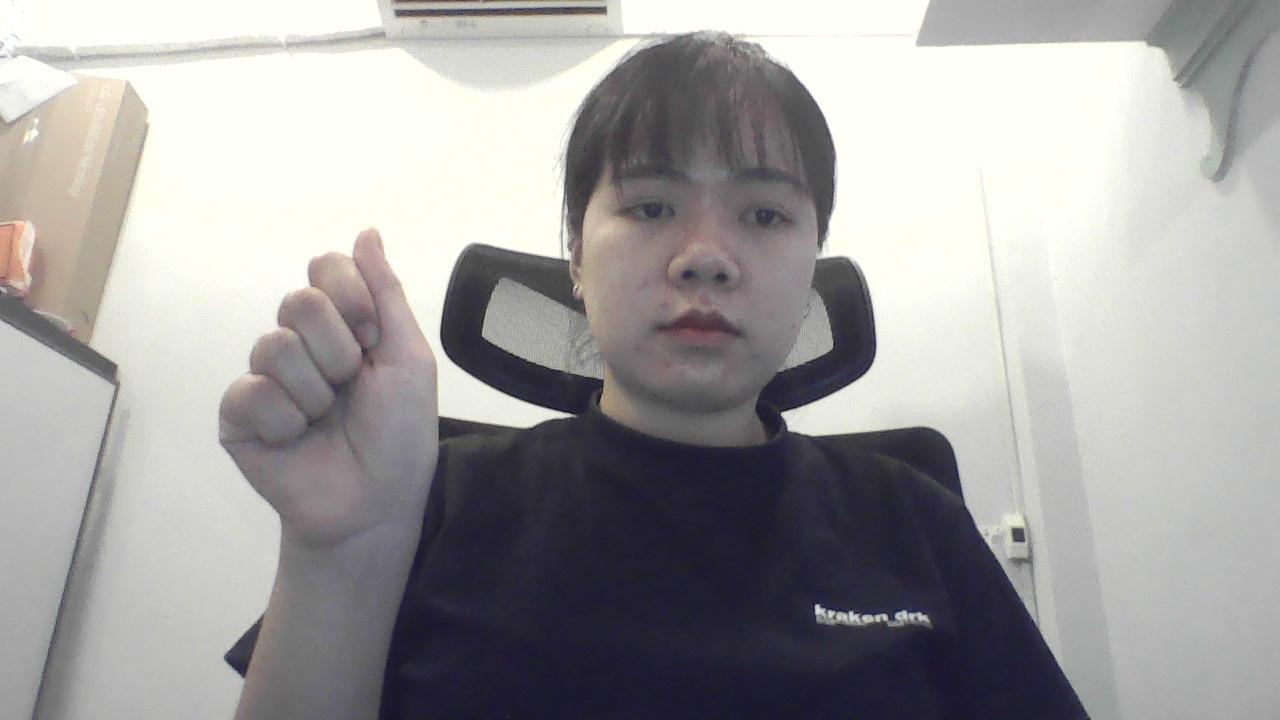A: (210, 212, 456, 632)
